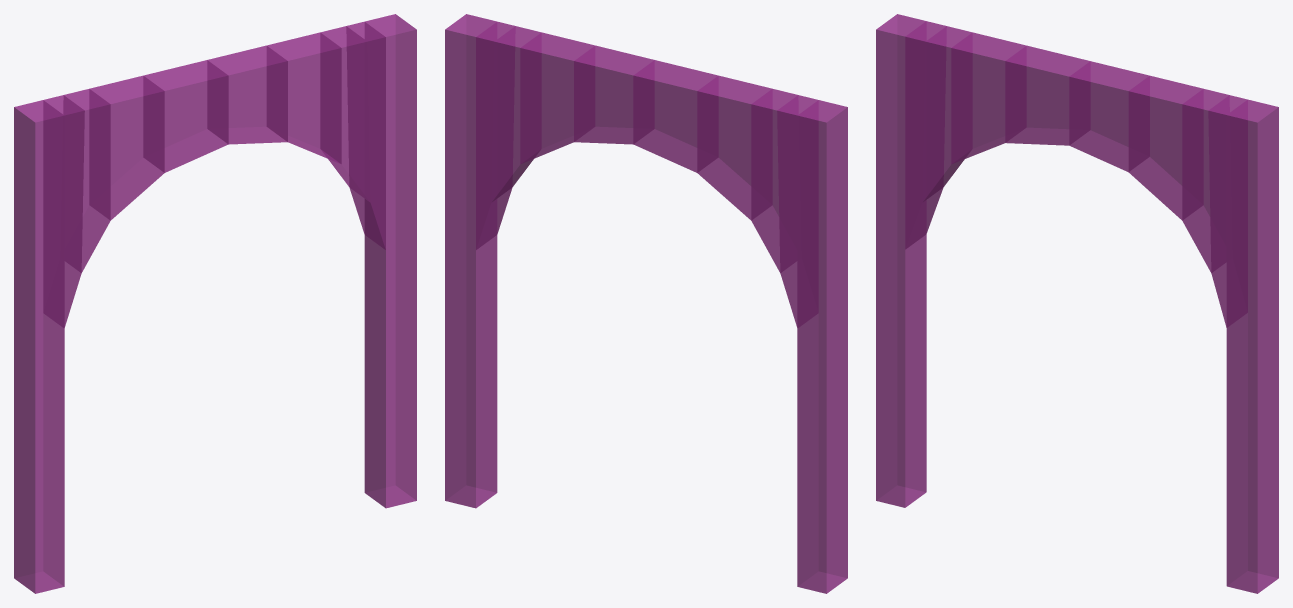
File: SM_Bld_Wall_Manor_Arch_01_Collision.fbx
3 views of the same model, side by side, from view 1: azimuth 30°, elevation 25°; view 2: azimuth 150°, elevation 25°; view 3: azimuth 330°, elevation 25° (orthographic).
Visible parts, largest first — view 1: SM_Bld_Wall_Manor_Arch_01_Collision; view 2: SM_Bld_Wall_Manor_Arch_01_Collision; view 3: SM_Bld_Wall_Manor_Arch_01_Collision.
Part boxes in pixels (left/top/right/bottom): SM_Bld_Wall_Manor_Arch_01_Collision: left=14, top=14, right=416, bottom=593; SM_Bld_Wall_Manor_Arch_01_Collision: left=445, top=14, right=847, bottom=593; SM_Bld_Wall_Manor_Arch_01_Collision: left=876, top=14, right=1278, bottom=593.
Bounding box in the file's own units: 255 × 301 × 24.61.
